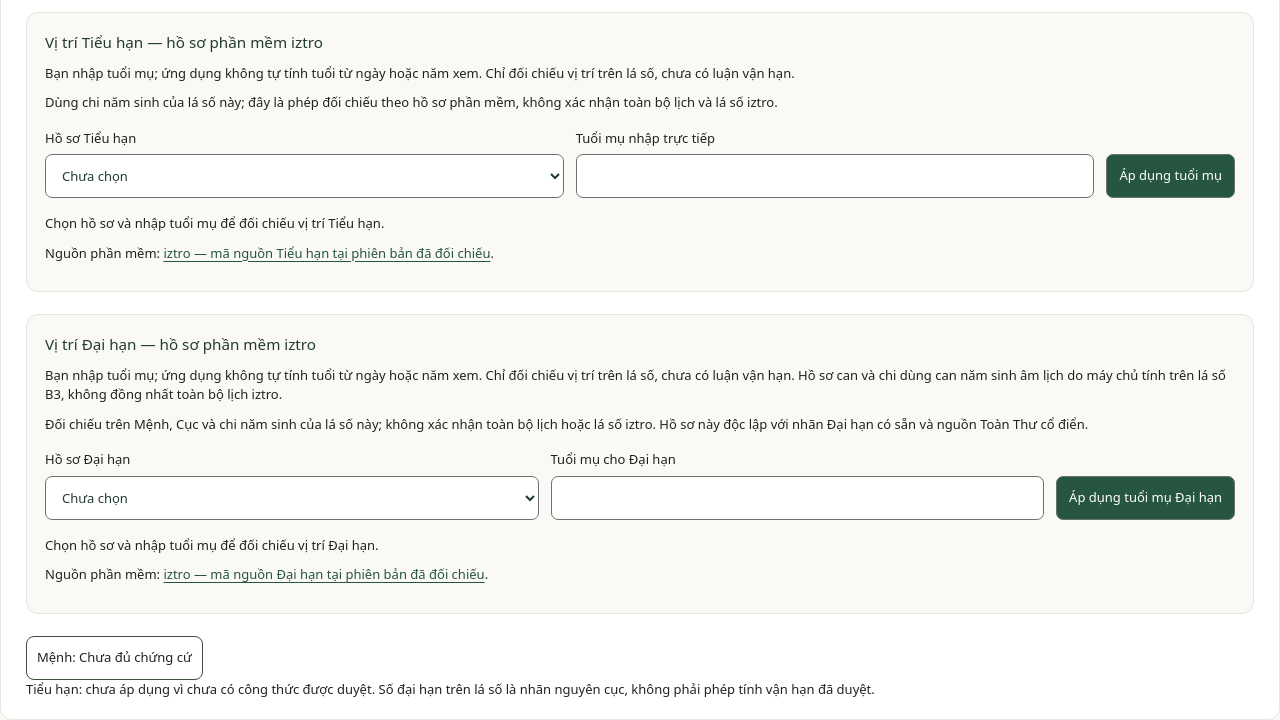
it: StructuredAnalysis › ignores a stale response after the birth hour changes
(page scrolled)
Step 1. Click the button "Mệnh: Chưa đủ chứng cứ" → (114, 658), box [26,636,203,680]
(page scrolled)
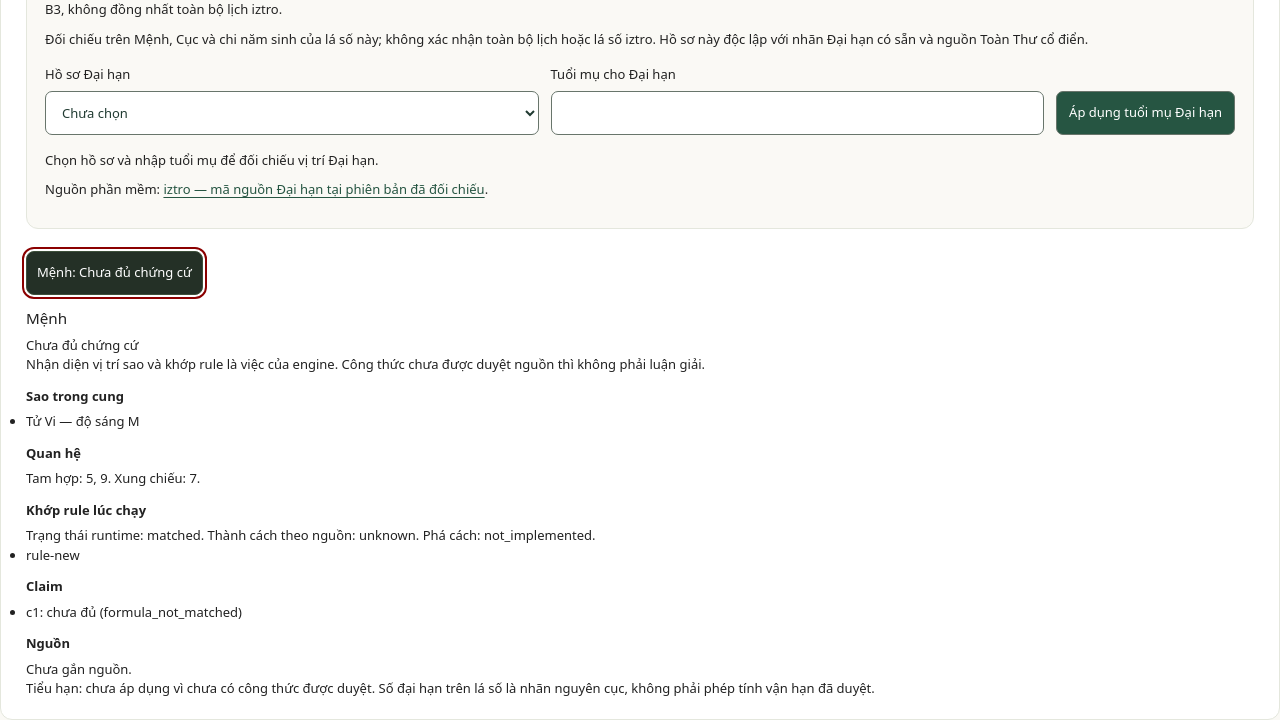
Expected: the list item "rule-new" is shown, [26,546,80,564]
